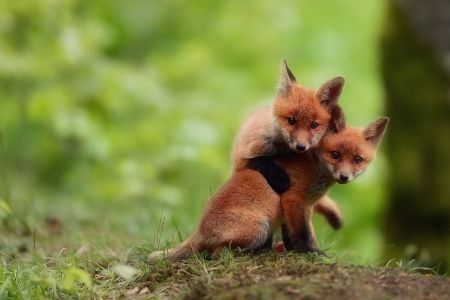fox: (212, 120, 383, 254), (257, 59, 333, 151)
